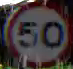Speed limit: (4, 1, 72, 65)
